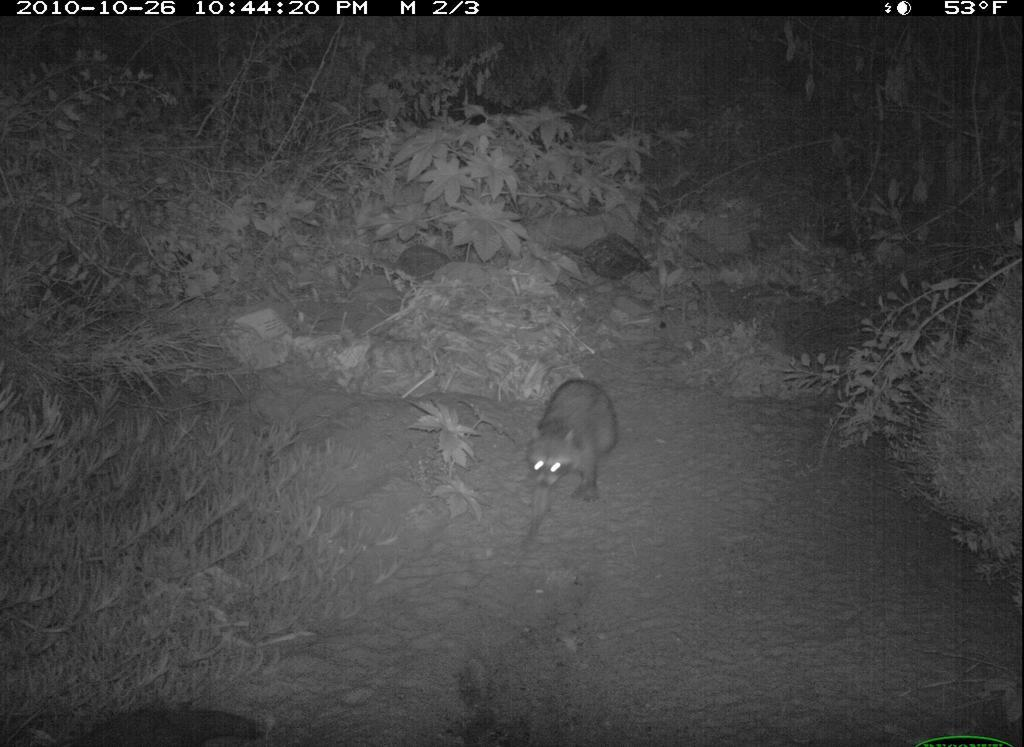raccoon: (516, 365, 621, 537)
